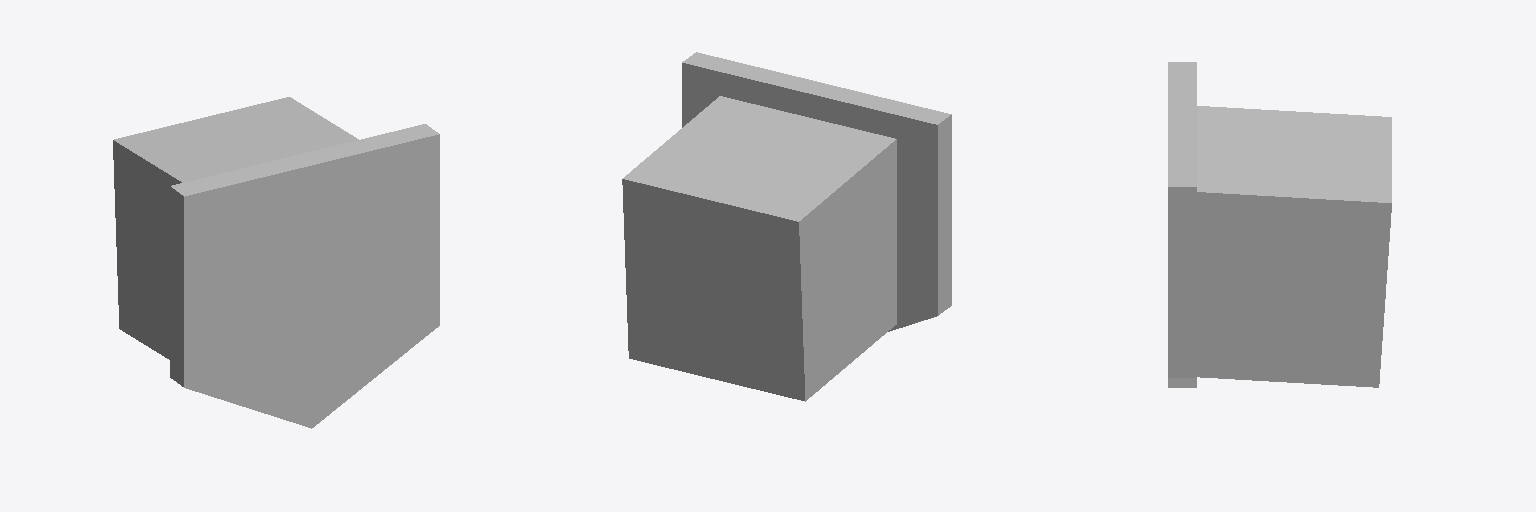
The model's file is golem_tro.obj.
3 renders of one model, left to right at view 1: azimuth 30°, elevation 25°; view 2: azimuth 150°, elevation 25°; view 3: azimuth 270°, elevation 25°, orthographic.
Visible parts, largest first — view 1: Cube; view 2: Cube; view 3: Cube.
Part boxes in pixels (x1,y1,x2,y2): Cube: (113,97,439,428); Cube: (622,52,951,401); Cube: (1168,62,1391,387).
Size of the model in its own units: 1 by 0.9846 by 0.7605.